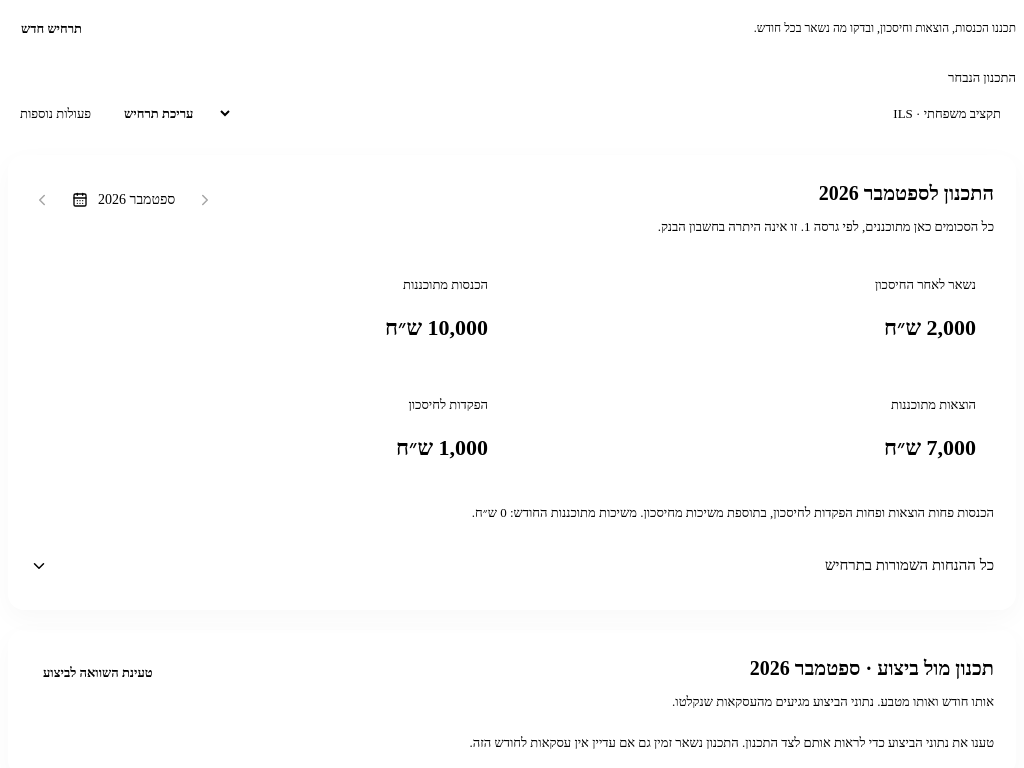
Planning feature presentation › uses the new scenario horizon rather than the selected saved scenario in timing controls
Click the button "תרחיש חדש" at (52, 29), box [8,8,95,50]
(page scrolled)
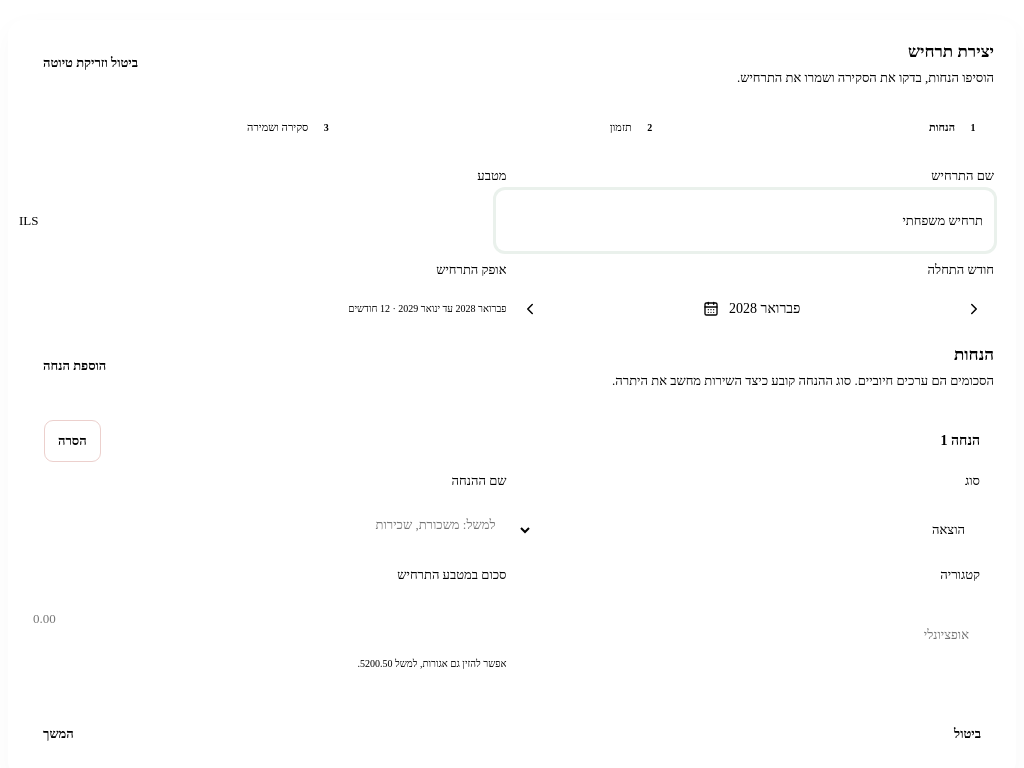
Type "שכירות" into the field labelled "שם ההנחה" at (264, 525), box [22,495,506,556]
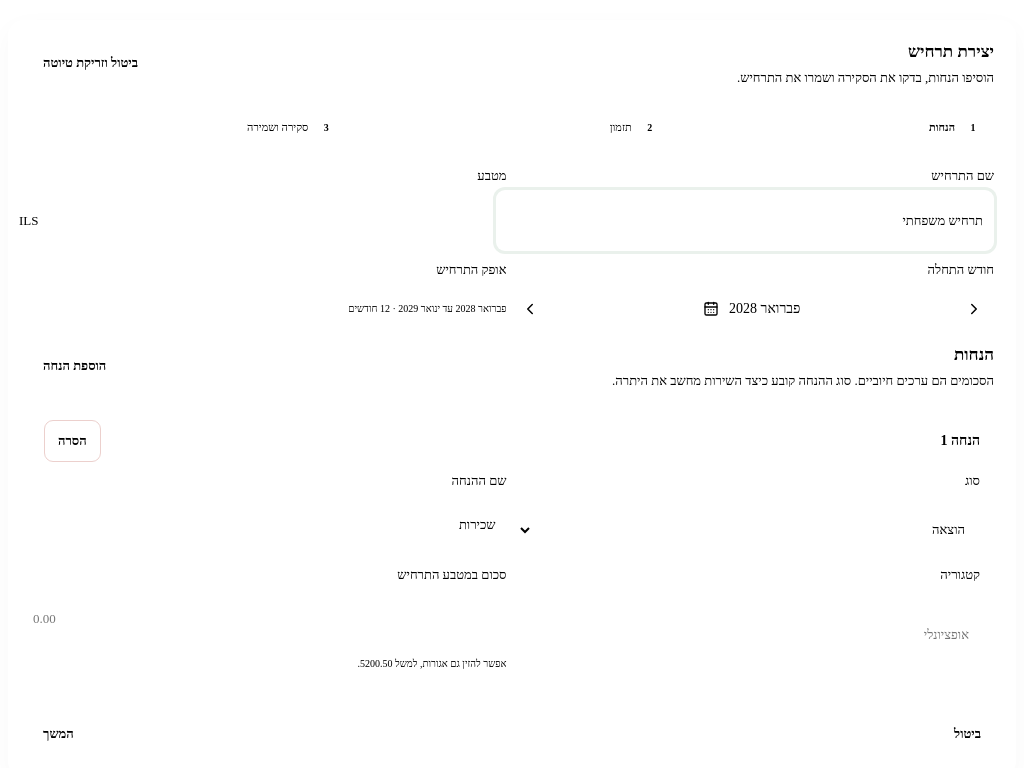
Type "5000.25" into the field labelled "סכום במטבע התרחיש אפשר להזין גם אגורות, למשל 5200.50." at (264, 619), box [22,589,506,650]
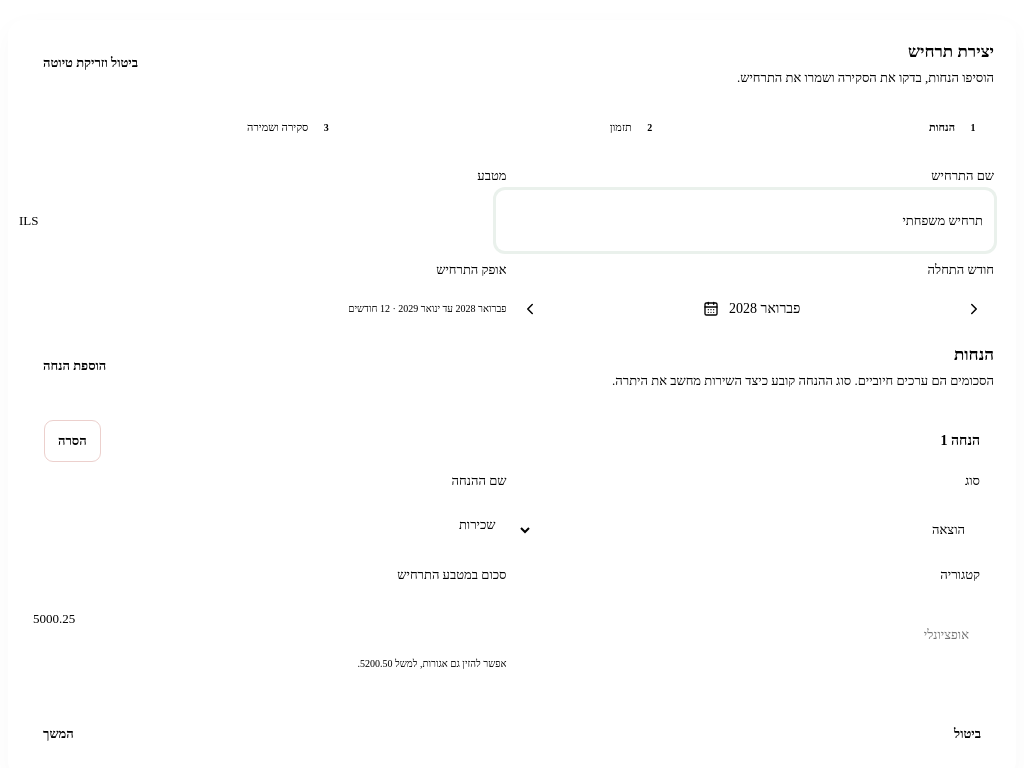
Click the button "המשך" at (58, 734), box [30,713,87,755]
(page scrolled)
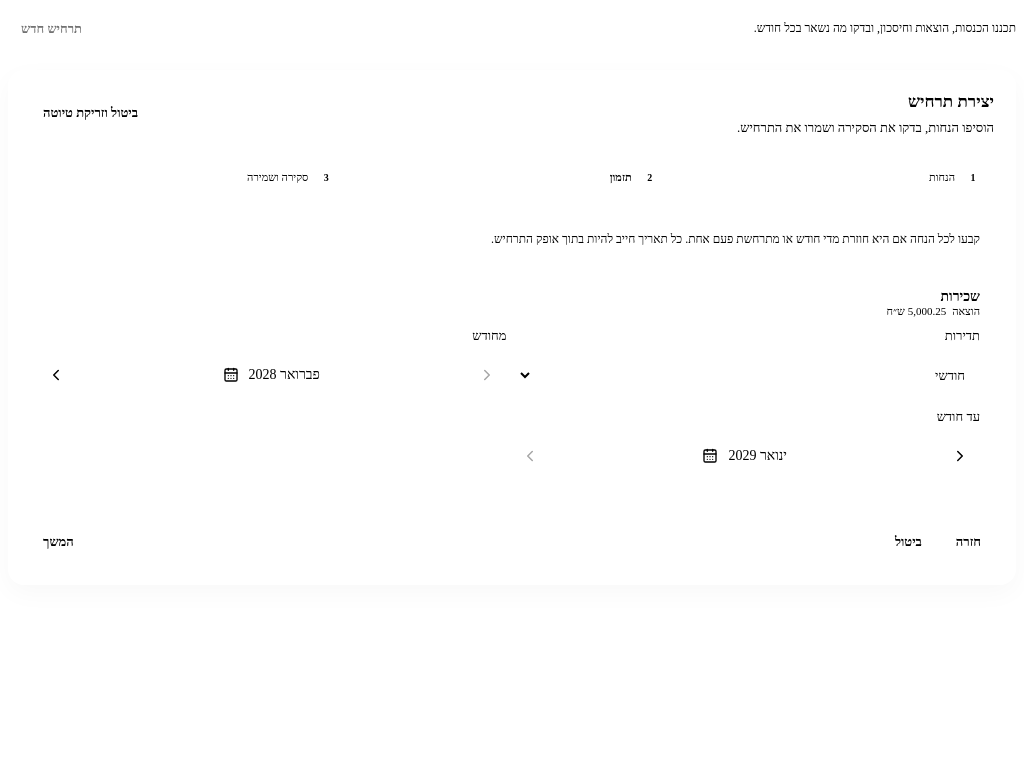
Click the button with aria-label "עד חודש" at (745, 456), box [546,437,944,475]
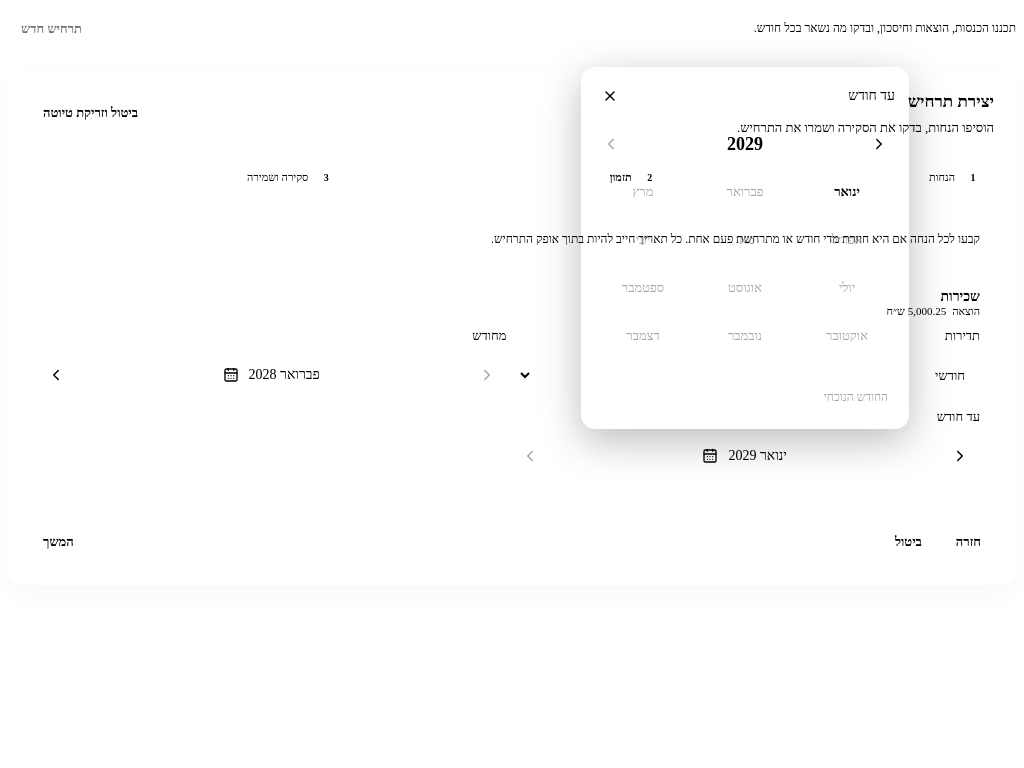
Expected: the button with aria-label "ינואר 2029" is enabled, [799,171,895,213]
Expected: the button with aria-label "פברואר 2029" is disabled, [697,171,793,213]
